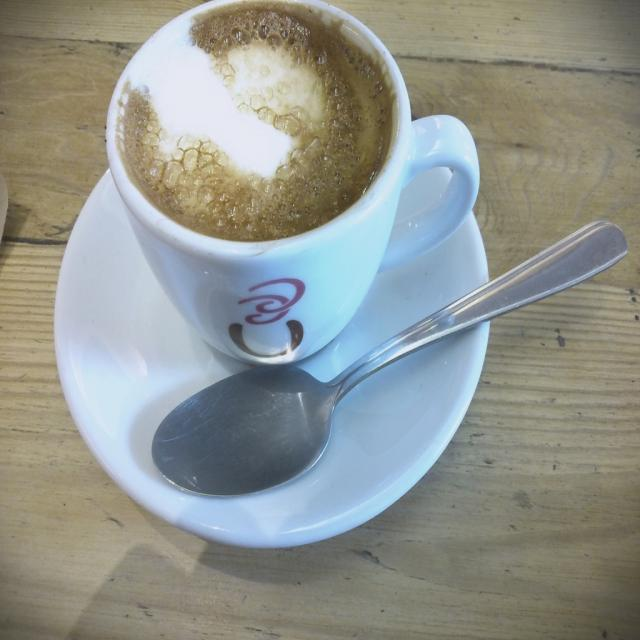latte: (103, 1, 410, 253)
